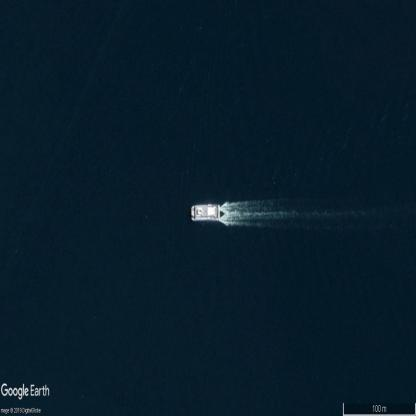ship: (192, 206, 220, 222)
